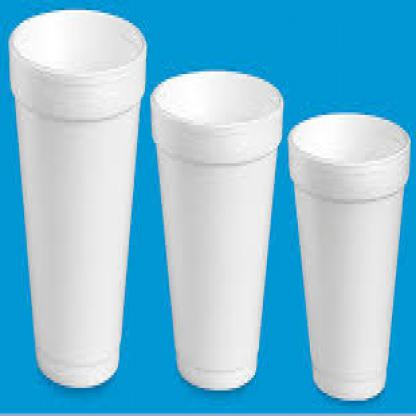paper: (8, 8, 145, 385), (150, 66, 283, 393), (287, 110, 408, 398)
